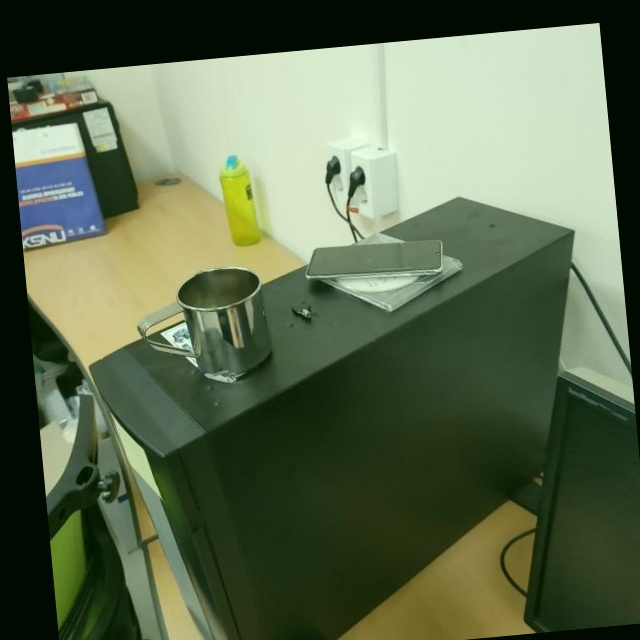cup: (134, 263, 274, 385)
phone: (301, 235, 446, 284)
